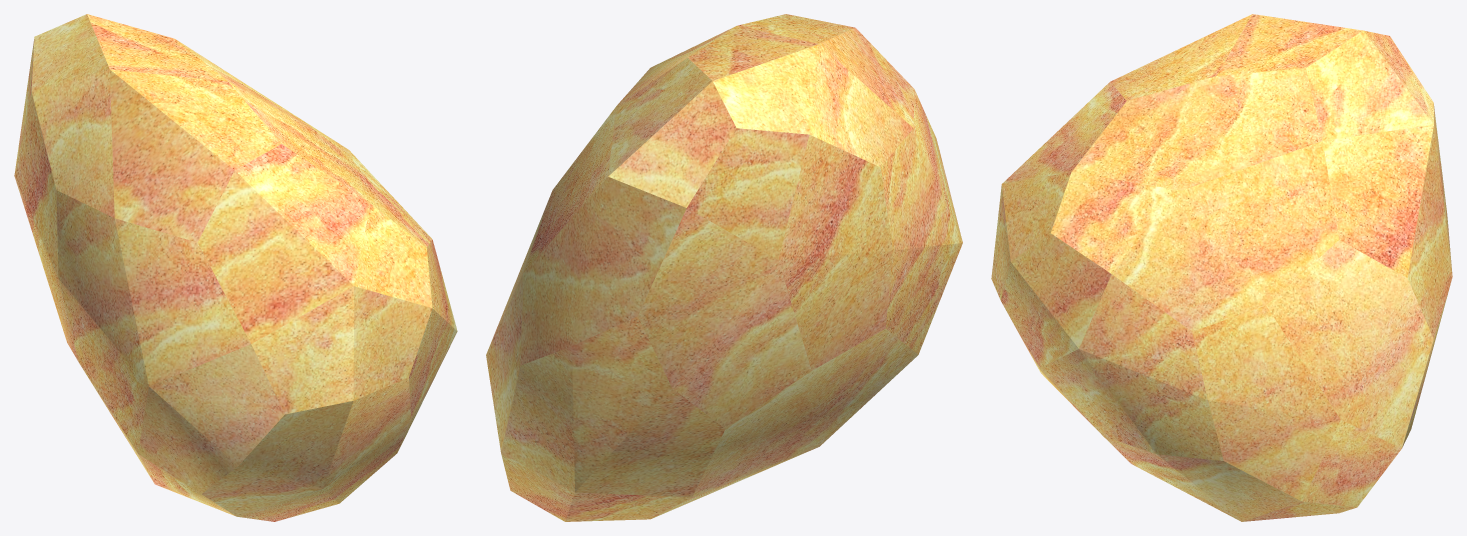
The model's file is boulder-sm-5.glb.
3 views of the same model, side by side, from view 1: azimuth 30°, elevation 25°; view 2: azimuth 150°, elevation 25°; view 3: azimuth 270°, elevation 25° (orthographic). The views are drawn at different scales.
Visible parts, largest first — view 1: Icosahedron_n3d; view 2: Icosahedron_n3d; view 3: Icosahedron_n3d.
Boxes of the visible parts, x1=… form: Icosahedron_n3d: x1=14, y1=14, x2=457, y2=521; Icosahedron_n3d: x1=486, y1=14, x2=962, y2=521; Icosahedron_n3d: x1=991, y1=14, x2=1452, y2=521.
Bounding box in the file's own units: 0.3289 × 0.4281 × 0.4302.
Materials: 1 (1 with a texture image).
